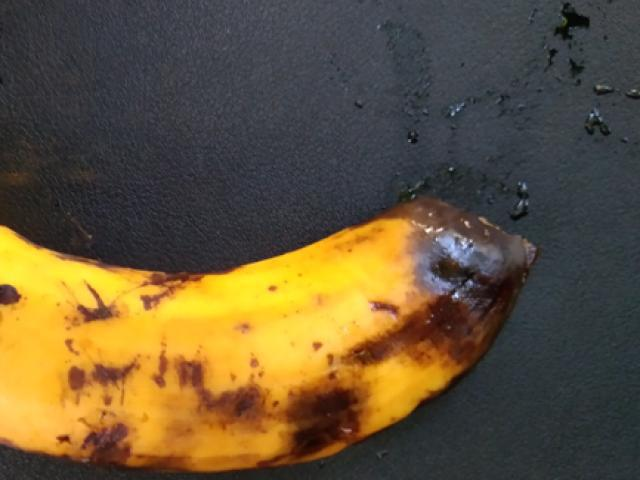overripe: (0, 200, 268, 479)
rotten: (201, 173, 561, 479)
